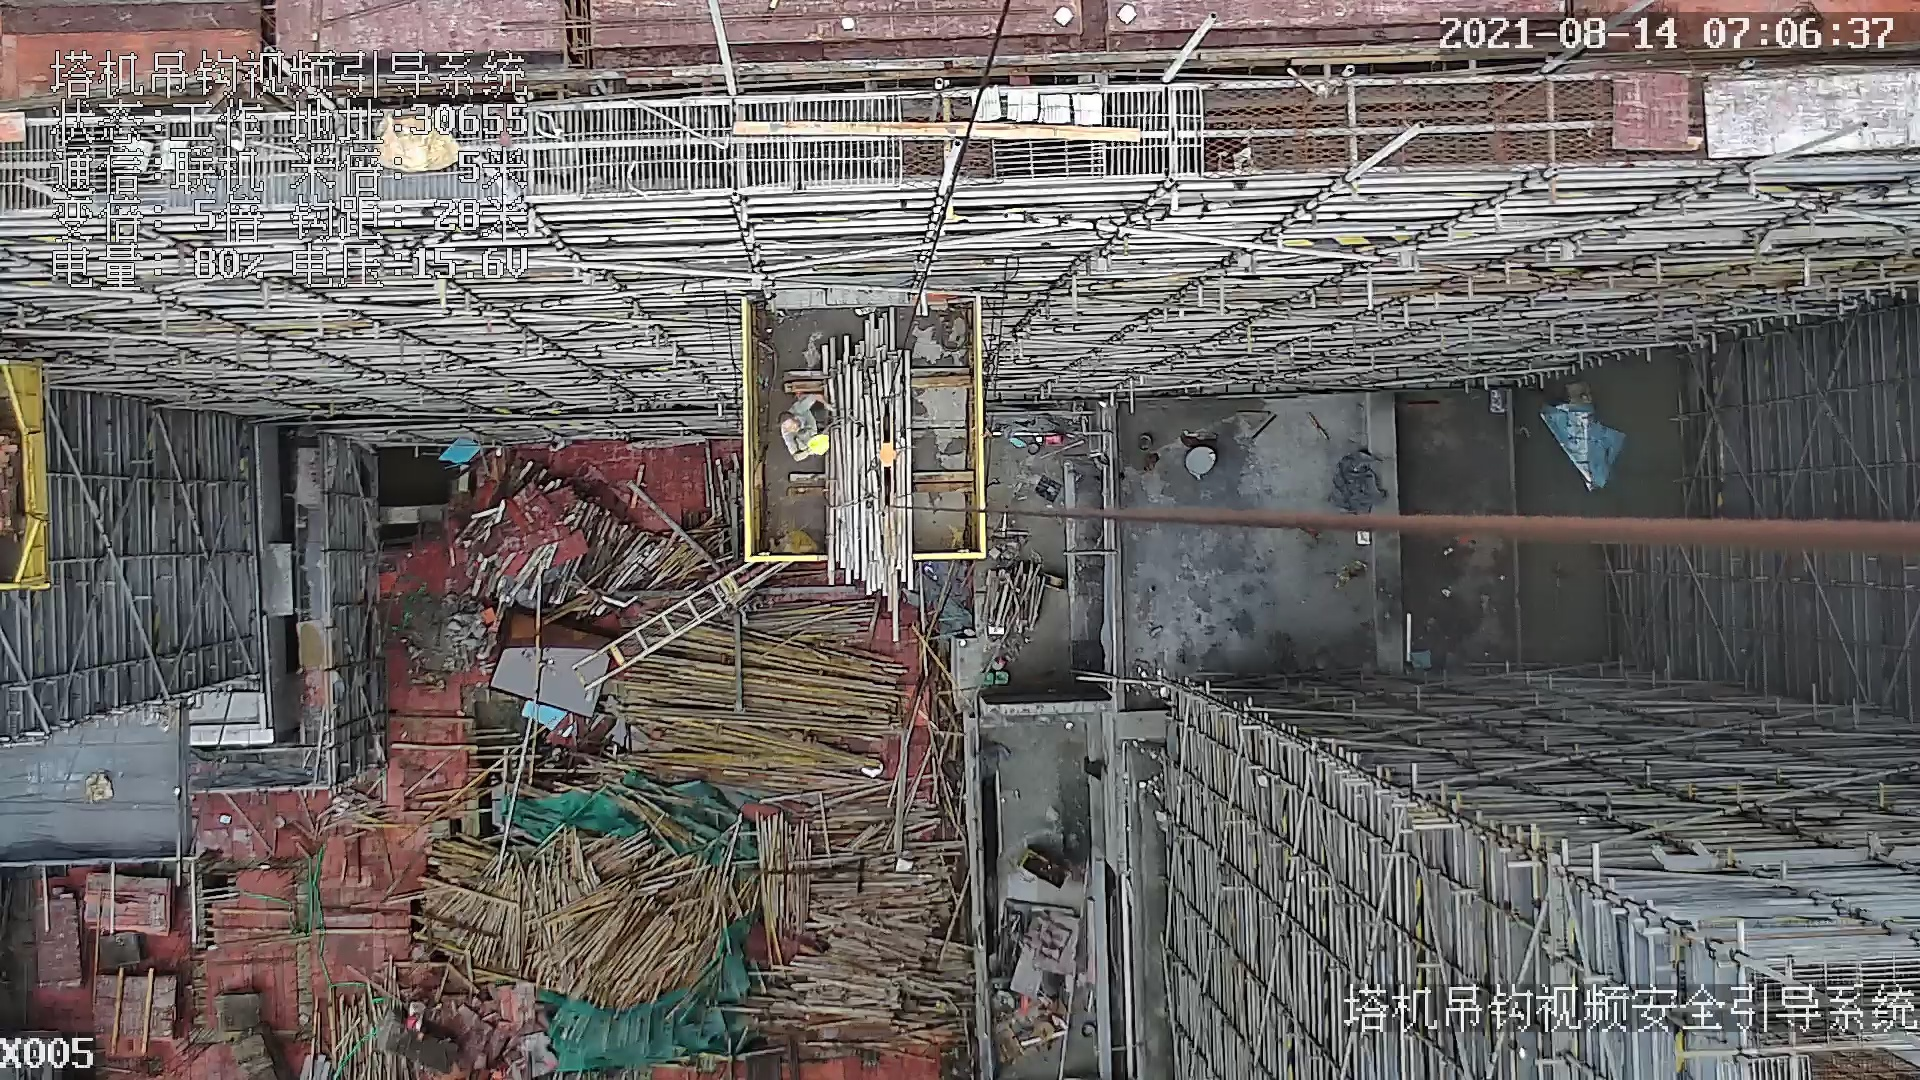helmet: (808, 434, 831, 455)
hook: (873, 399, 905, 512)
person: (778, 383, 831, 465)
